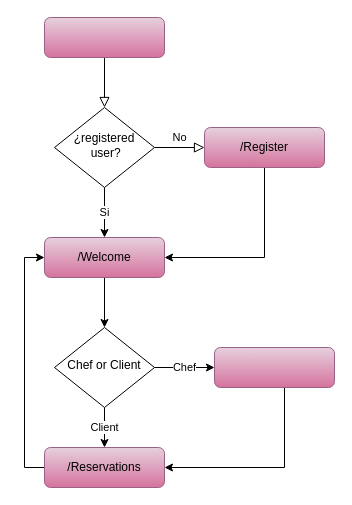
The diagram is 352 pixels wide and 505 high, and some of its shapes have lost their labels. The centre of each missing label's shape, as x and y in pixels:
"/Create-Update" belongs at [274,367].
"/HomePage" belongs at [104,37].
